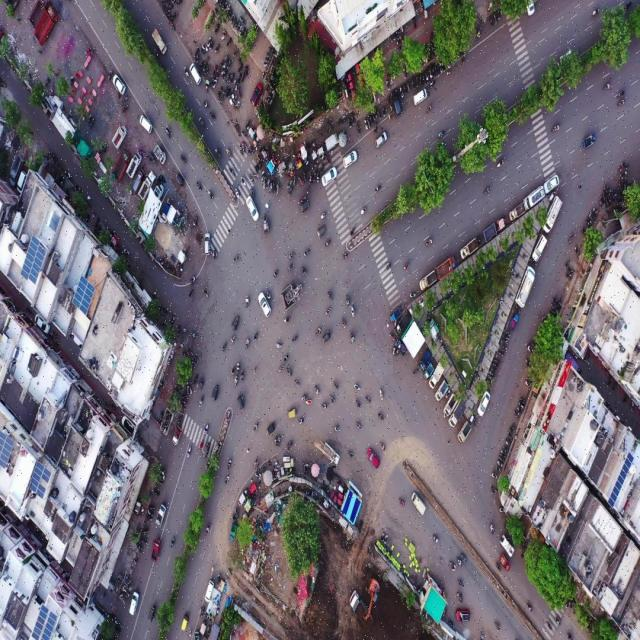3W: (264, 416, 278, 436), (179, 611, 191, 633), (147, 603, 158, 626), (315, 220, 327, 241), (229, 314, 241, 333), (500, 554, 511, 574), (322, 327, 333, 345), (299, 199, 310, 216), (262, 213, 270, 236), (175, 170, 185, 188), (238, 390, 246, 412), (211, 383, 220, 402), (204, 440, 211, 463), (286, 405, 296, 421)
Cars: (372, 130, 395, 153), (341, 147, 359, 172), (364, 444, 380, 472), (137, 114, 156, 136), (533, 234, 548, 261), (322, 164, 338, 189), (499, 535, 516, 557), (246, 196, 260, 222), (249, 84, 264, 105), (478, 391, 490, 417), (112, 72, 126, 94), (543, 174, 559, 193), (129, 589, 139, 618), (190, 62, 202, 84), (391, 89, 401, 115), (413, 88, 427, 106), (259, 294, 270, 316), (204, 579, 213, 602), (456, 609, 471, 622), (204, 232, 211, 257)
LCV: (543, 193, 565, 237), (515, 266, 537, 310), (521, 185, 543, 211), (152, 24, 169, 56), (448, 401, 465, 429), (437, 255, 455, 280), (460, 237, 477, 262), (140, 172, 155, 199), (429, 362, 444, 388), (457, 419, 472, 444), (111, 124, 127, 147), (418, 272, 436, 292), (411, 491, 426, 514), (324, 442, 339, 465), (152, 142, 167, 164), (150, 538, 162, 564), (154, 503, 167, 526), (508, 203, 524, 221), (418, 350, 432, 370), (436, 380, 448, 402), (132, 169, 144, 191), (395, 314, 408, 334), (326, 134, 339, 150), (582, 134, 596, 148), (390, 307, 403, 322), (509, 313, 519, 332), (228, 523, 238, 541), (424, 363, 434, 379), (396, 340, 405, 356), (173, 426, 181, 442)
M2W: (590, 6, 601, 18), (544, 618, 554, 631), (551, 614, 561, 627), (182, 64, 190, 80), (208, 110, 218, 122), (231, 251, 241, 263), (354, 419, 364, 431), (225, 456, 233, 471), (448, 561, 458, 573), (454, 556, 464, 568), (185, 443, 192, 460), (164, 126, 172, 140), (252, 330, 259, 346), (324, 305, 333, 317), (402, 260, 411, 272), (431, 532, 440, 544), (178, 156, 188, 166), (302, 247, 312, 257), (495, 160, 505, 170), (616, 88, 626, 98), (525, 602, 535, 612), (225, 147, 234, 158), (550, 123, 559, 134), (214, 147, 222, 159), (212, 246, 218, 262), (244, 294, 250, 310), (314, 326, 322, 338), (282, 353, 290, 365), (319, 400, 327, 412), (346, 448, 354, 460), (494, 620, 502, 632), (327, 290, 334, 303), (348, 330, 355, 343), (253, 421, 260, 434), (385, 261, 392, 274), (488, 522, 495, 535), (573, 246, 580, 259), (189, 274, 196, 287), (199, 113, 205, 128), (602, 81, 611, 91), (615, 99, 625, 108), (524, 379, 533, 389), (567, 231, 573, 246), (275, 182, 281, 197), (426, 103, 434, 114), (563, 258, 571, 269), (271, 268, 278, 280), (293, 376, 300, 388), (332, 378, 339, 390), (377, 410, 384, 422), (355, 397, 361, 411), (397, 496, 404, 508), (170, 534, 176, 548), (230, 365, 236, 379), (374, 183, 381, 195), (461, 552, 468, 564), (457, 590, 464, 602), (220, 28, 227, 40), (232, 46, 239, 58), (204, 79, 210, 93), (204, 458, 210, 472), (290, 333, 299, 342), (424, 238, 433, 247), (202, 100, 210, 110), (359, 206, 367, 216), (328, 393, 336, 403), (286, 262, 294, 272), (482, 186, 492, 194), (230, 167, 236, 180), (234, 188, 240, 201), (378, 388, 384, 401), (202, 423, 208, 436), (199, 378, 205, 391), (496, 559, 502, 572), (551, 293, 557, 306), (488, 16, 494, 29), (226, 35, 232, 48), (212, 64, 218, 77), (198, 440, 204, 453), (275, 340, 282, 351), (438, 128, 445, 139), (458, 578, 465, 589), (213, 23, 220, 34), (193, 373, 198, 388), (208, 190, 214, 202), (250, 186, 256, 198), (266, 289, 272, 301), (287, 251, 295, 260), (323, 238, 331, 247), (342, 251, 350, 260), (314, 384, 320, 396), (198, 395, 204, 407), (298, 176, 304, 188), (208, 39, 214, 51), (301, 264, 308, 274), (297, 416, 304, 426), (333, 423, 340, 433), (223, 474, 230, 484), (567, 630, 574, 640), (490, 473, 500, 480), (508, 424, 515, 434), (302, 170, 307, 184), (196, 181, 202, 192), (286, 365, 292, 376), (204, 523, 210, 534), (230, 334, 236, 345), (193, 46, 199, 57), (217, 86, 223, 97), (138, 544, 144, 555), (200, 606, 206, 617), (241, 175, 246, 188), (341, 316, 346, 329), (240, 368, 245, 381), (373, 120, 378, 133), (301, 393, 309, 401), (550, 308, 558, 316), (283, 316, 292, 323), (353, 382, 360, 391), (364, 394, 371, 403), (378, 441, 385, 450), (428, 80, 435, 89), (350, 306, 355, 318), (278, 364, 284, 374), (222, 340, 227, 352), (410, 77, 415, 89), (206, 36, 211, 48), (171, 10, 177, 20), (212, 78, 217, 90), (350, 227, 357, 235), (409, 292, 417, 299), (513, 410, 520, 418), (357, 122, 361, 136), (316, 170, 320, 184), (263, 177, 267, 191), (138, 537, 146, 544), (403, 84, 408, 95), (507, 432, 513, 441), (495, 461, 504, 467), (565, 272, 571, 281), (215, 43, 221, 52), (202, 42, 208, 51), (169, 22, 175, 31), (494, 12, 498, 25), (415, 74, 419, 87), (386, 78, 390, 91), (382, 105, 386, 118), (347, 117, 351, 130), (260, 170, 264, 183), (249, 174, 254, 184), (225, 55, 230, 65), (320, 212, 327, 219), (504, 440, 511, 447), (518, 402, 525, 409), (236, 362, 240, 374), (234, 374, 238, 386), (246, 337, 250, 349), (493, 358, 501, 364), (494, 466, 502, 472), (407, 81, 411, 93), (429, 68, 433, 80), (351, 110, 354, 126), (364, 119, 368, 131), (320, 161, 324, 173), (293, 176, 297, 188), (244, 120, 250, 128), (244, 64, 248, 76), (237, 87, 241, 99), (230, 72, 234, 84), (237, 74, 241, 86), (228, 59, 232, 71), (194, 56, 200, 64), (142, 529, 150, 535), (312, 171, 316, 183), (214, 7, 219, 16), (237, 63, 242, 72), (219, 58, 224, 67), (346, 295, 350, 306), (434, 65, 438, 76), (266, 179, 270, 190), (229, 88, 233, 99), (305, 399, 311, 406), (287, 188, 293, 195), (498, 351, 504, 358), (501, 449, 508, 455), (378, 109, 381, 123), (145, 514, 151, 521), (239, 146, 243, 156), (490, 368, 498, 373), (501, 344, 506, 352), (400, 88, 404, 98), (425, 73, 429, 83), (387, 97, 390, 110), (270, 182, 273, 195), (492, 363, 498, 369), (375, 107, 378, 119), (367, 116, 370, 128), (234, 78, 237, 90), (147, 510, 153, 516), (369, 115, 372, 126), (242, 141, 245, 152), (241, 72, 244, 83), (154, 491, 160, 496), (420, 74, 422, 88), (440, 60, 442, 74)
Truck: (34, 0, 58, 45), (349, 593, 373, 630), (111, 150, 130, 182)
